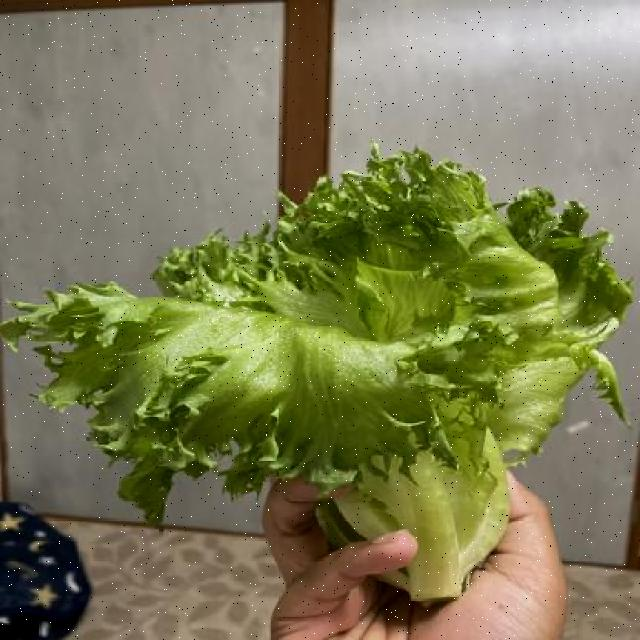plant: (7, 149, 640, 555)
